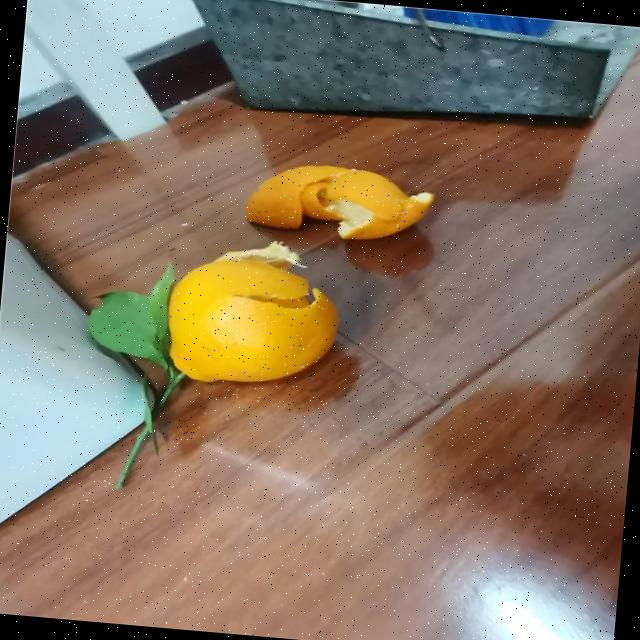orange-peel: (160, 250, 343, 392)
